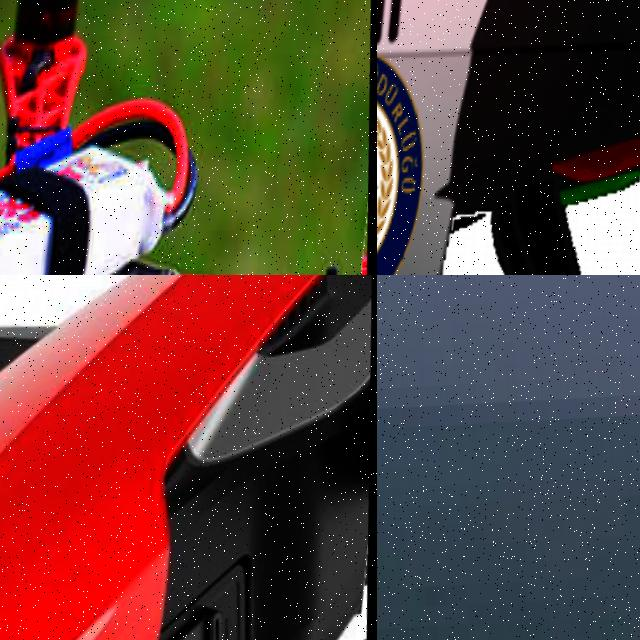drone: (0, 275, 377, 640), (0, 0, 377, 275), (377, 0, 640, 275)
